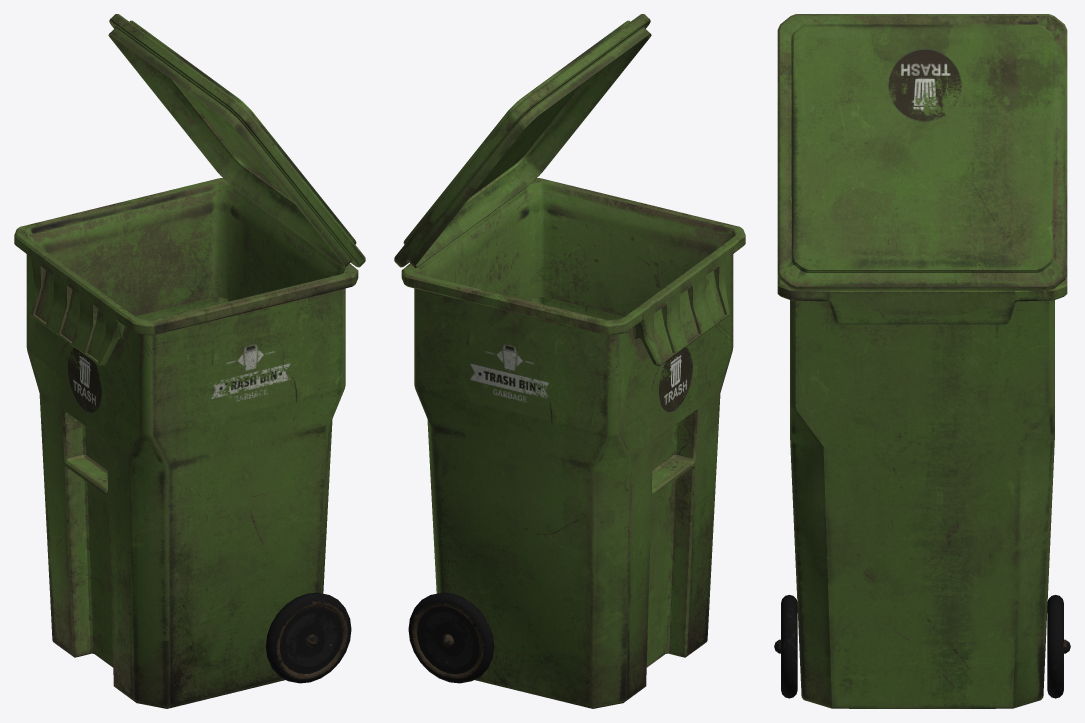
File: Prop_BigGarbageBin_Green.fbx
3 renders of one model, left to right at view 1: azimuth 30°, elevation 25°; view 2: azimuth 150°, elevation 25°; view 3: azimuth 270°, elevation 25°, orthographic. The views are drawn at different scales.
Visible parts, largest first — view 1: Prop_BigGarbageBin_Green, Prop_BigGarbageBin_Green_Lid; view 2: Prop_BigGarbageBin_Green, Prop_BigGarbageBin_Green_Lid; view 3: Prop_BigGarbageBin_Green, Prop_BigGarbageBin_Green_Lid.
Boxes of the visible parts, x1,y1,x2,y2 form: Prop_BigGarbageBin_Green: (14, 178, 358, 708); Prop_BigGarbageBin_Green_Lid: (108, 14, 365, 268); Prop_BigGarbageBin_Green: (401, 178, 745, 708); Prop_BigGarbageBin_Green_Lid: (394, 14, 651, 268); Prop_BigGarbageBin_Green: (774, 275, 1070, 708); Prop_BigGarbageBin_Green_Lid: (777, 14, 1067, 290).
Size of the model in its own units: 37.05 by 87.99 by 36.84.
